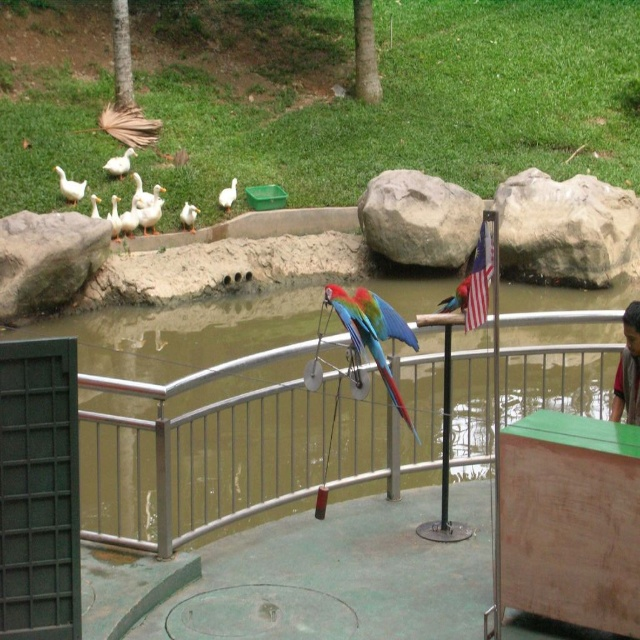Parrot: (320, 284, 421, 451), (440, 282, 472, 318)
